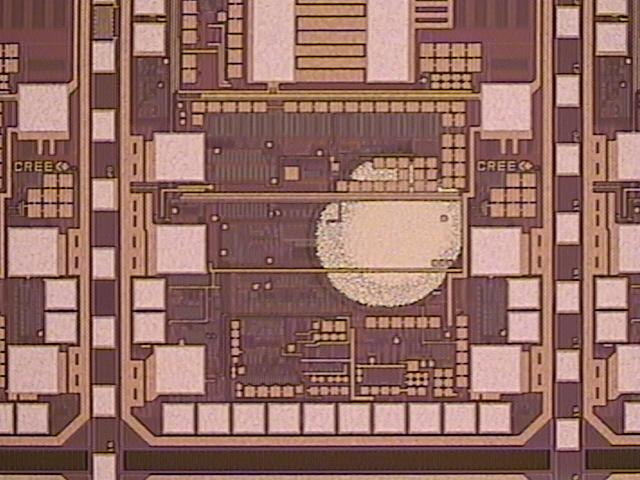BLOCK ETCH: (306, 144, 471, 316)
